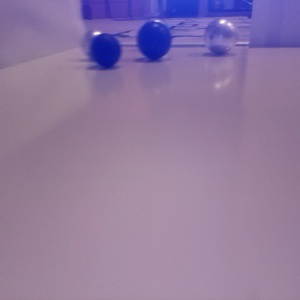alive_ball: (204, 18, 238, 55), (81, 30, 108, 58), (143, 18, 169, 47)
dead_ball: (137, 21, 172, 59), (90, 33, 121, 69)
